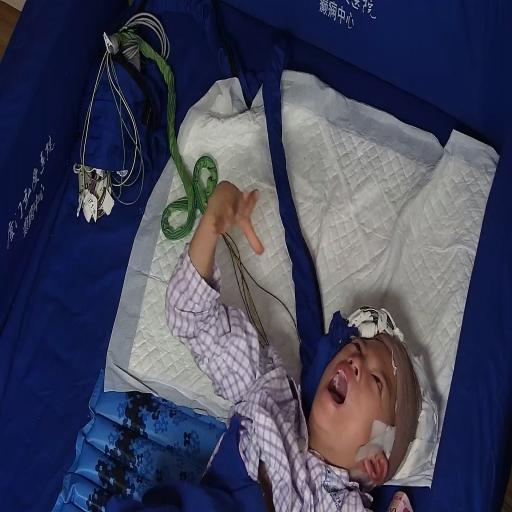Seizure: (313, 320, 405, 475)
